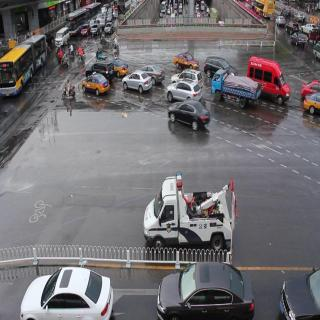BigCar: (2, 33, 48, 104)
Car: (143, 172, 230, 250), (156, 266, 255, 314), (19, 269, 108, 320), (246, 56, 289, 101), (211, 73, 257, 110), (174, 94, 212, 138), (159, 73, 204, 102), (119, 70, 154, 104), (84, 68, 110, 100), (142, 55, 166, 88), (206, 51, 234, 77), (167, 44, 202, 63), (291, 31, 306, 54), (55, 24, 68, 48), (92, 18, 100, 39)
